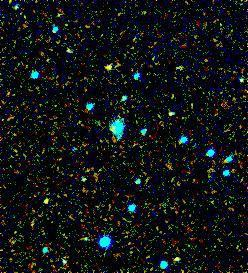star: (32, 185, 62, 215)
